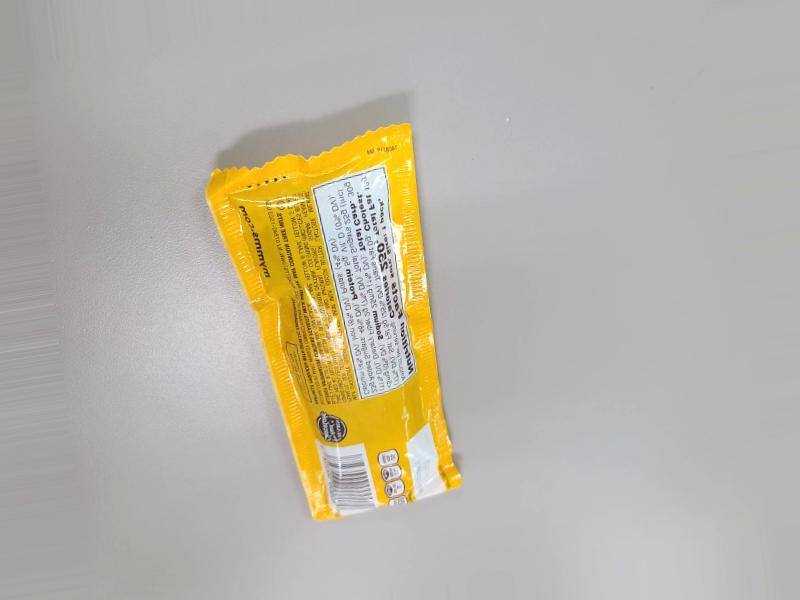m&m: (193, 147, 461, 495)
